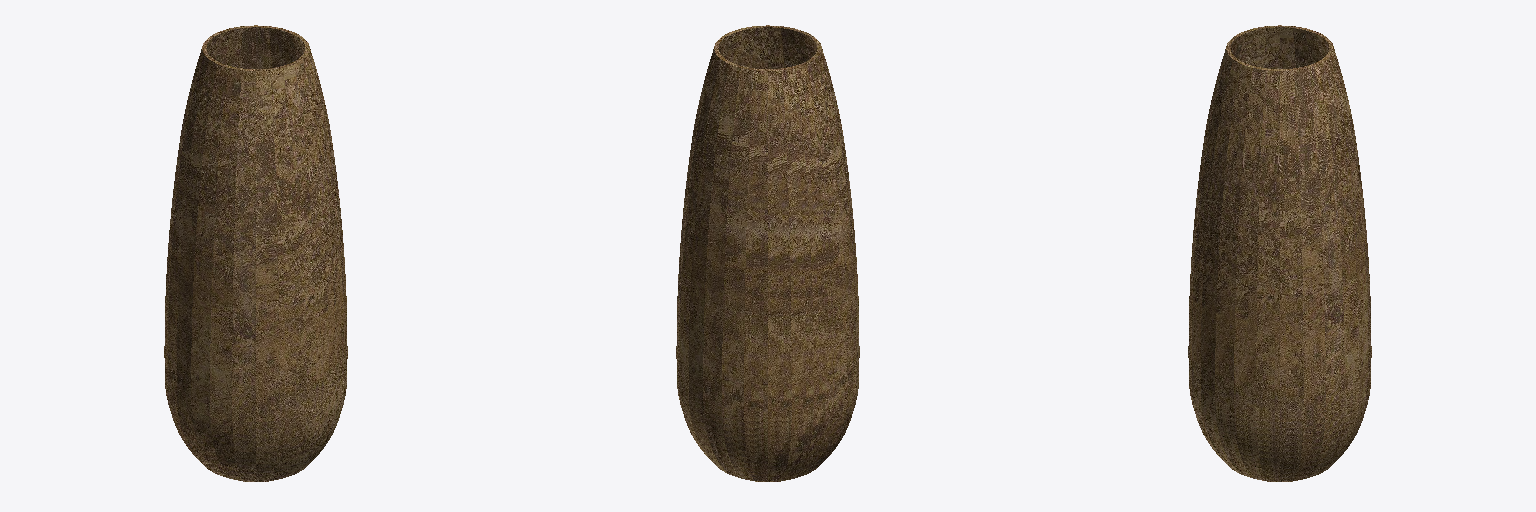
3 views of the same model, side by side, from view 1: azimuth 30°, elevation 25°; view 2: azimuth 150°, elevation 25°; view 3: azimuth 270°, elevation 25° (orthographic).
Visible parts, largest first — view 1: Mesh1 Anfora_1_1 Model; view 2: Mesh1 Anfora_1_1 Model; view 3: Mesh1 Anfora_1_1 Model.
Part boxes in pixels (bbox=[...]): Mesh1 Anfora_1_1 Model: bbox=[164, 25, 347, 481]; Mesh1 Anfora_1_1 Model: bbox=[676, 25, 859, 481]; Mesh1 Anfora_1_1 Model: bbox=[1188, 25, 1371, 481].
Size of the model in its own units: 0.084 by 0.2104 by 0.084.
Materials: 1 (1 with a texture image).